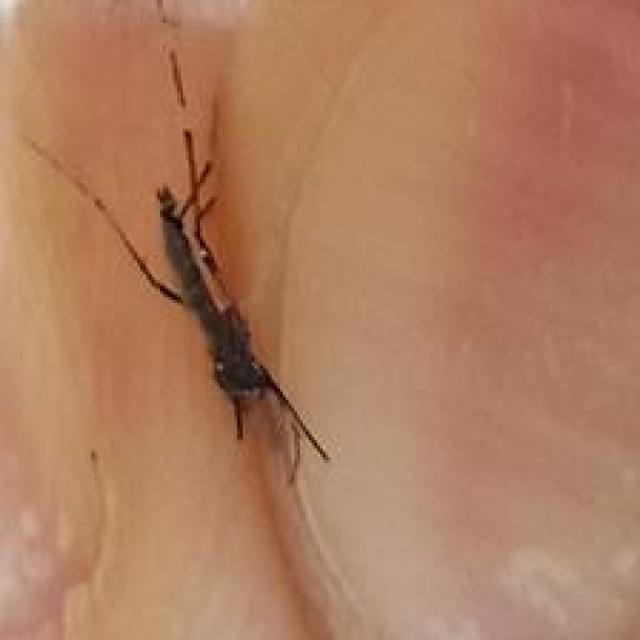Aedes albopictus: (21, 123, 333, 486)
